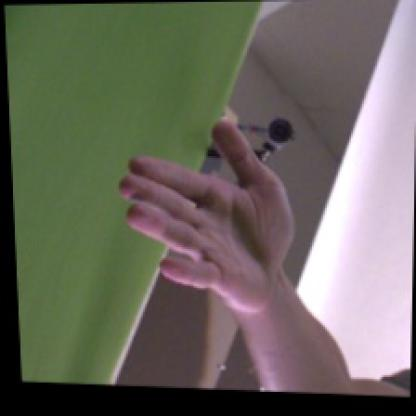Hand: (119, 121, 296, 310)
